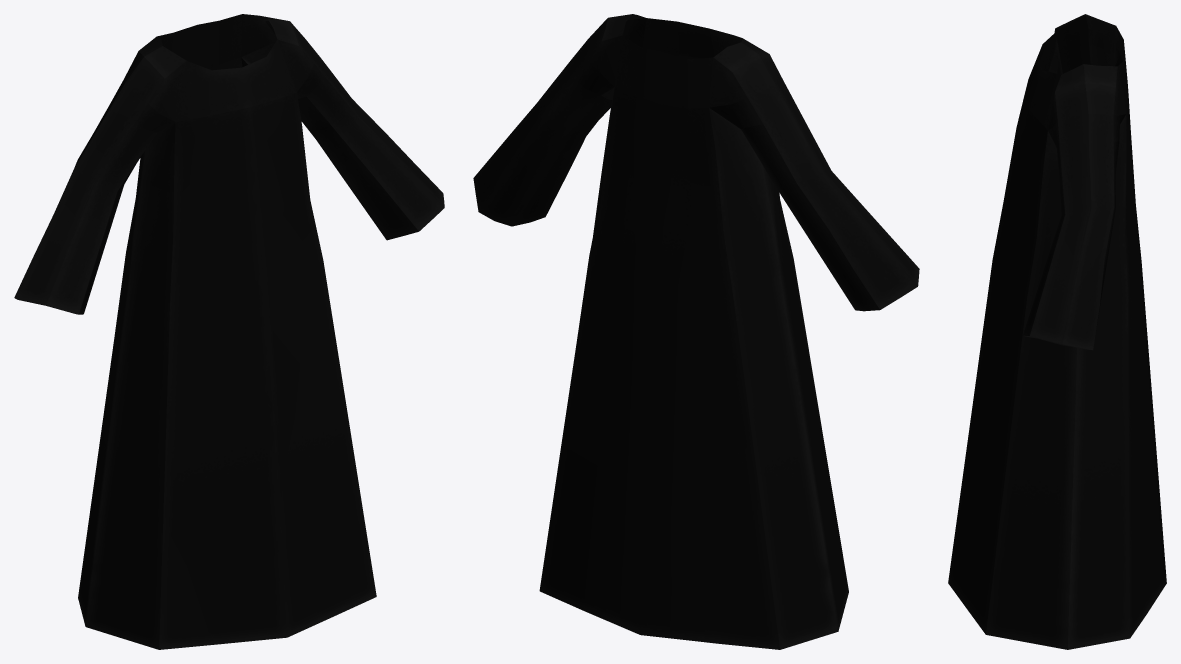
Rendered from M_Sorcerer_Cloth_Cape.fbx.
The picture shows the model from 3 angles, left to right: view 1: azimuth 30°, elevation 25°; view 2: azimuth 150°, elevation 25°; view 3: azimuth 270°, elevation 25°; orthographic projection. The views are drawn at different scales.
Visible parts, largest first — view 1: M_SorcererCloth_Cape; view 2: M_SorcererCloth_Cape; view 3: M_SorcererCloth_Cape.
Part boxes in pixels (x1=…): M_SorcererCloth_Cape: x1=14, y1=14, x2=444, y2=649; M_SorcererCloth_Cape: x1=473, y1=14, x2=919, y2=649; M_SorcererCloth_Cape: x1=948, y1=14, x2=1166, y2=649.
Bounding box in the file's own units: 12.89 × 15.97 × 5.83.
